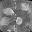people: (3, 7, 15, 16), (1, 17, 12, 26), (16, 17, 22, 26)
